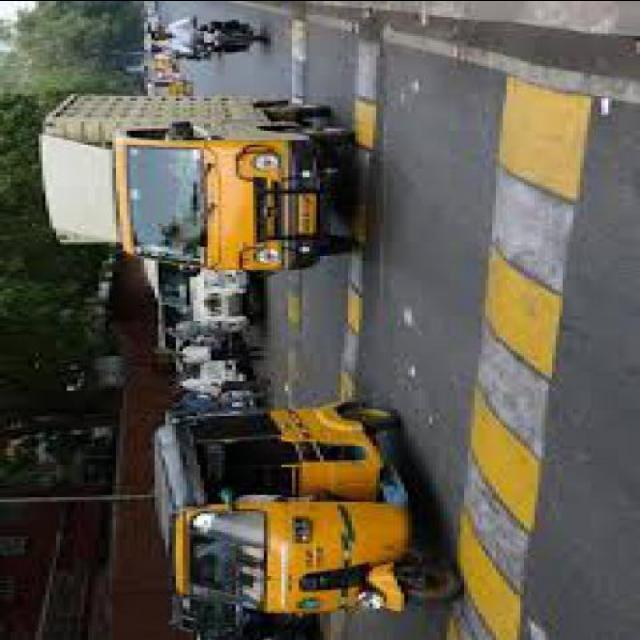speedbreaker: (433, 71, 612, 640), (338, 11, 382, 402)
